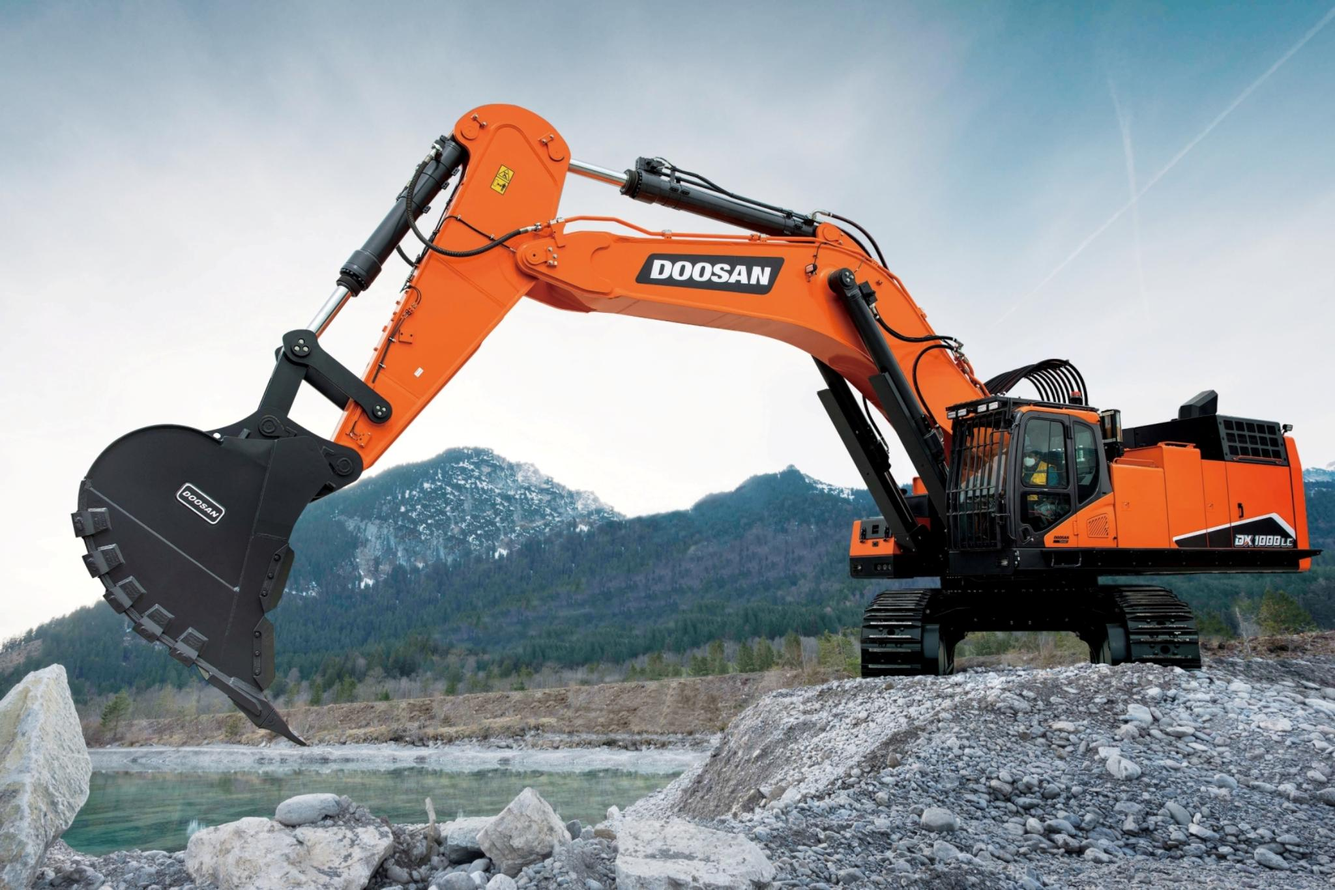excavator: (75, 111, 1335, 671)
